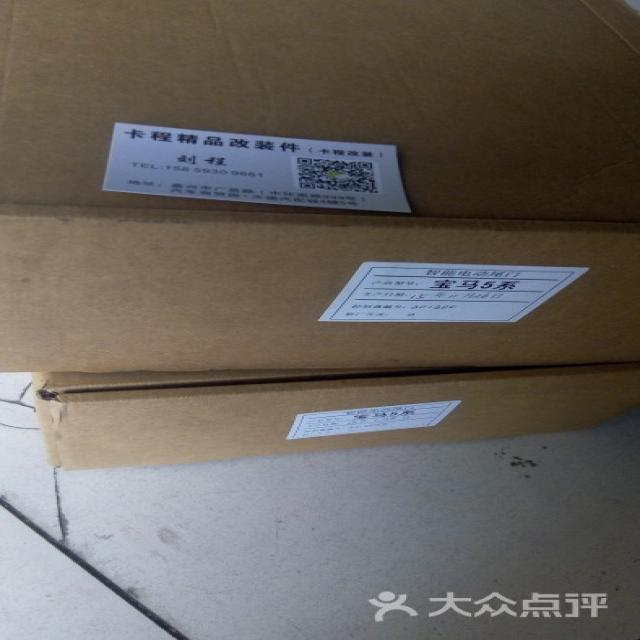box: (0, 2, 638, 372), (24, 362, 638, 469)
